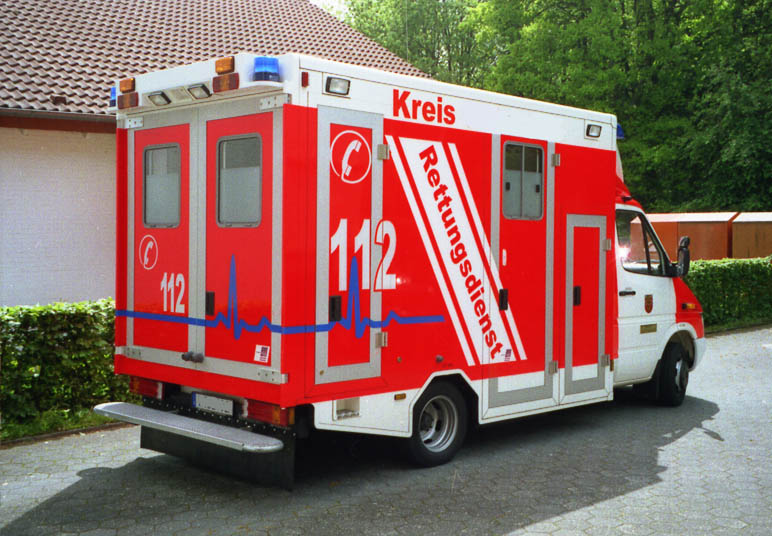special: (113, 50, 706, 474)
